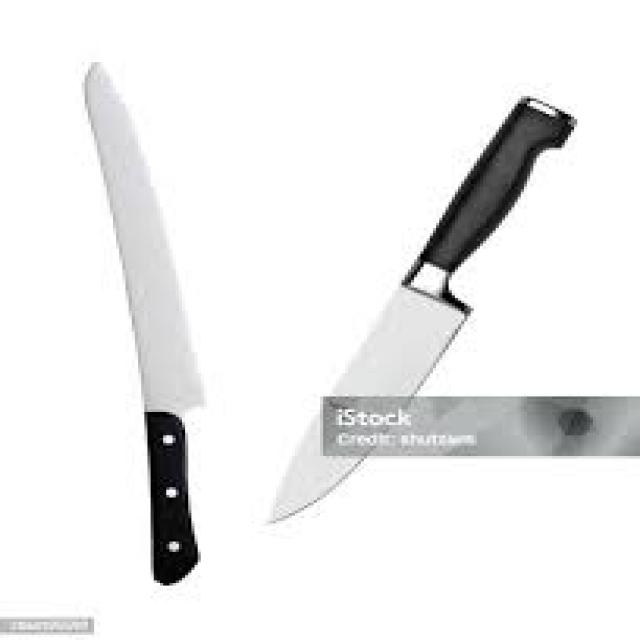Knife: (267, 94, 577, 524), (78, 60, 204, 583)
